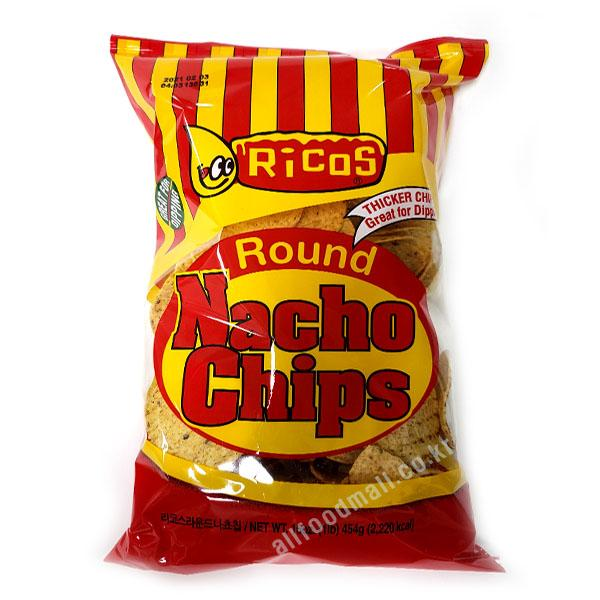snack: (99, 32, 509, 578)
